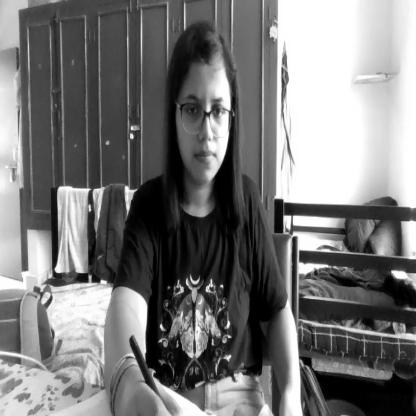Normal: (170, 28, 236, 190)
